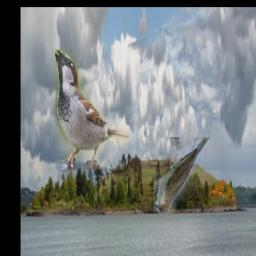Cuckoo: (153, 137, 209, 212)
Sparrow: (56, 50, 130, 171)
